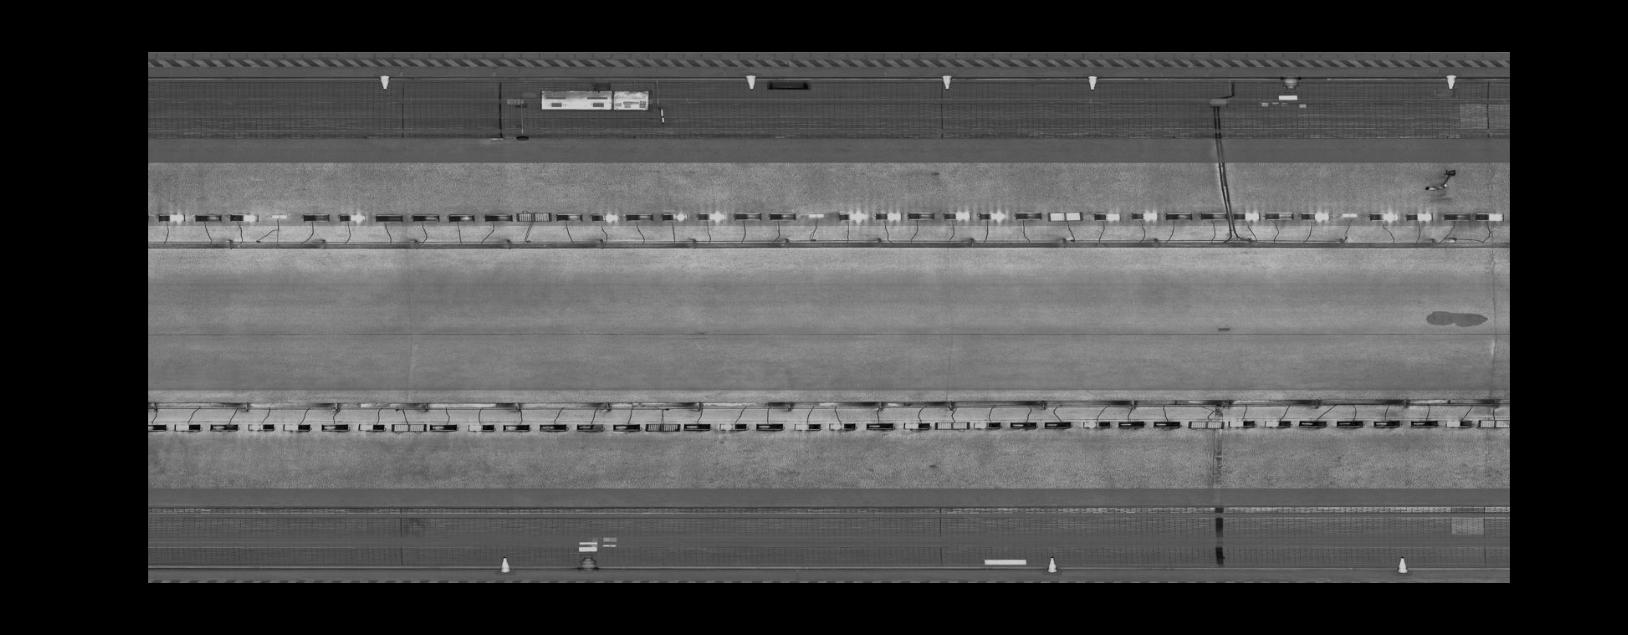light: (1044, 208, 1084, 224), (1185, 416, 1227, 431), (514, 209, 552, 224), (642, 419, 684, 433), (389, 419, 429, 434), (835, 208, 869, 224), (1128, 208, 1161, 224), (1092, 208, 1125, 224), (353, 419, 389, 434), (481, 210, 516, 224), (975, 208, 1007, 223), (1475, 415, 1508, 431), (444, 210, 479, 224), (932, 419, 972, 432), (156, 210, 187, 225), (1367, 210, 1401, 224), (872, 209, 905, 223), (408, 210, 441, 224), (372, 210, 405, 224), (300, 210, 333, 224), (573, 420, 606, 435), (225, 210, 261, 223), (206, 420, 241, 434), (588, 210, 620, 224), (336, 210, 369, 224), (537, 419, 569, 434), (466, 419, 498, 434), (169, 420, 203, 434), (1012, 208, 1043, 222), (905, 208, 937, 222), (1229, 208, 1263, 221), (427, 420, 460, 434), (1442, 416, 1477, 429), (191, 211, 223, 224), (280, 419, 313, 433), (1402, 210, 1436, 222), (1297, 209, 1331, 221), (1263, 208, 1297, 220), (716, 419, 751, 432), (941, 209, 972, 222), (695, 210, 726, 223), (553, 210, 585, 223), (319, 420, 350, 434), (1441, 210, 1474, 222), (899, 418, 932, 431), (863, 419, 896, 432), (825, 419, 859, 432), (501, 420, 532, 434), (1407, 417, 1442, 429), (1332, 417, 1367, 429), (1473, 210, 1505, 222), (731, 210, 763, 222), (623, 210, 655, 222), (245, 420, 277, 433), (1114, 418, 1148, 430), (1079, 418, 1113, 430), (1039, 418, 1074, 430), (752, 420, 786, 432), (767, 210, 798, 222), (1196, 210, 1229, 221), (1162, 210, 1195, 221), (1296, 417, 1329, 429), (1149, 418, 1183, 430), (791, 420, 824, 432), (680, 420, 713, 432), (660, 210, 690, 222), (1226, 417, 1258, 429), (1371, 417, 1402, 429), (1261, 417, 1293, 429), (608, 421, 643, 432), (1007, 419, 1038, 430), (971, 419, 1002, 430), (148, 419, 168, 431), (267, 211, 290, 220), (805, 211, 826, 219), (1339, 210, 1361, 216)
